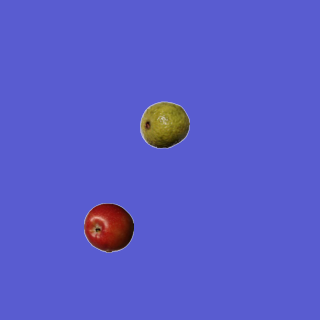Apple Braeburn: (83, 202, 133, 252)
Guava: (139, 99, 189, 149)
